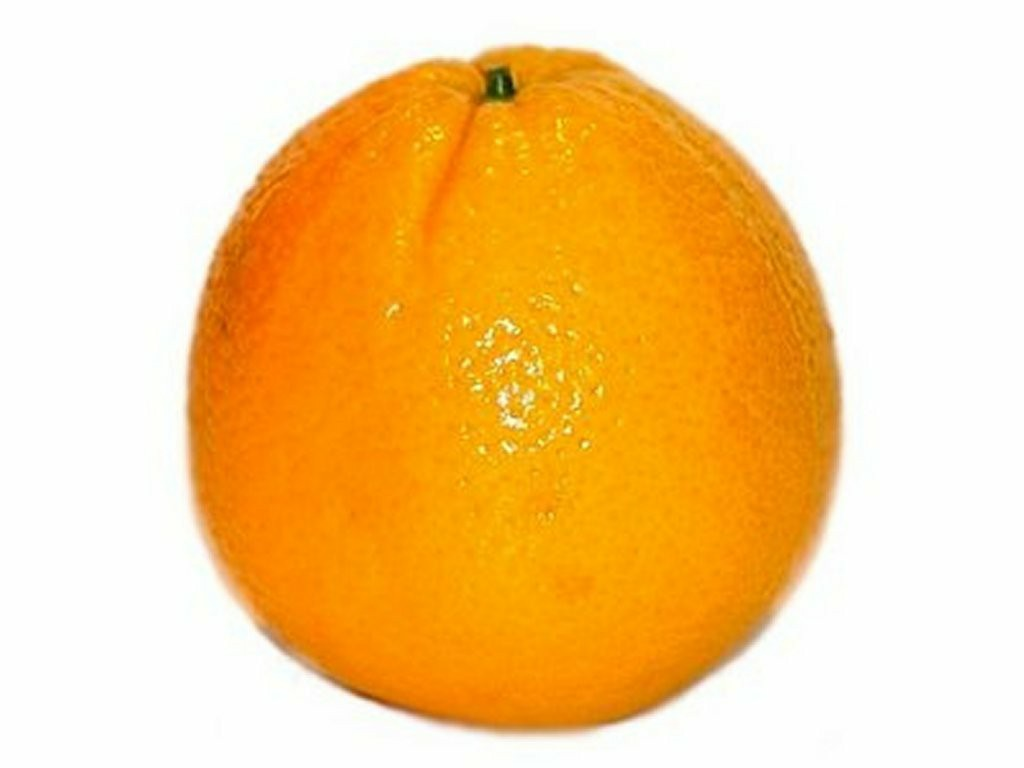fresh_orange: (186, 41, 844, 731)
